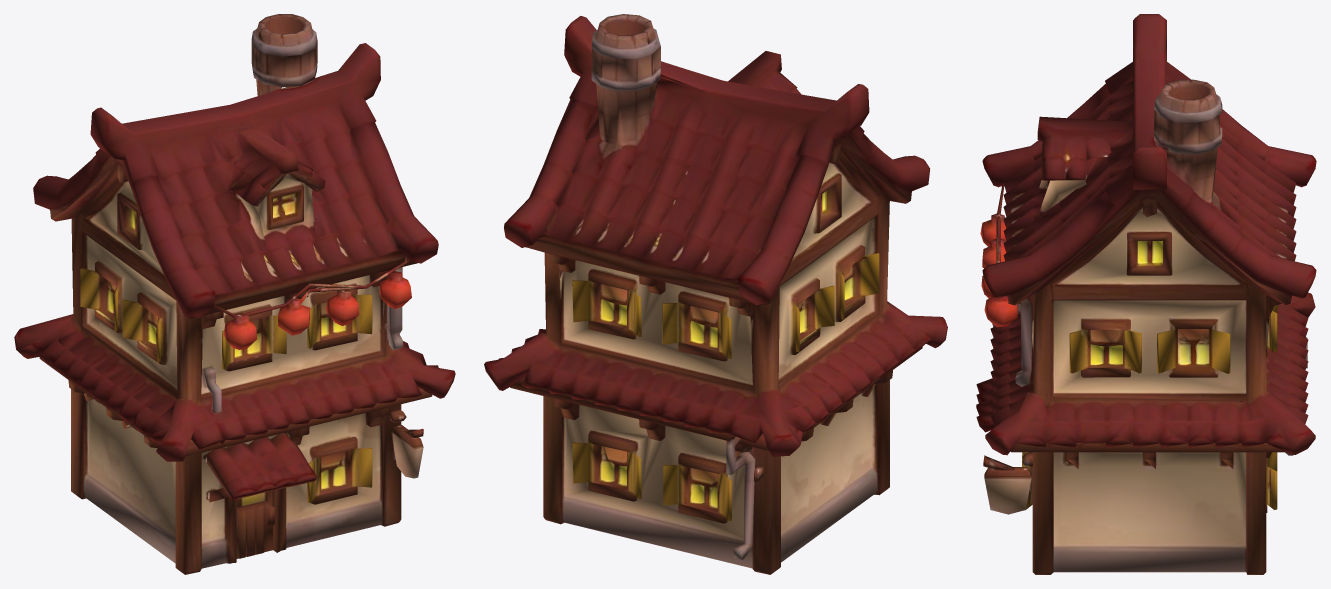
File: bld_tower.glb
3 views of the same model, side by side, from view 1: azimuth 30°, elevation 25°; view 2: azimuth 150°, elevation 25°; view 3: azimuth 270°, elevation 25° (orthographic). The views are drawn at different scales.
Visible parts, largest first — view 1: tripo_node_42963082-9c16-437e-bc61-db22d32cadf1; view 2: tripo_node_42963082-9c16-437e-bc61-db22d32cadf1; view 3: tripo_node_42963082-9c16-437e-bc61-db22d32cadf1.
Part boxes in pixels (<box>): tripo_node_42963082-9c16-437e-bc61-db22d32cadf1: <box>14,14,455,574</box>; tripo_node_42963082-9c16-437e-bc61-db22d32cadf1: <box>484,14,947,574</box>; tripo_node_42963082-9c16-437e-bc61-db22d32cadf1: <box>976,14,1316,574</box>.
Bounding box in the file's own units: 0.6724 × 0.9789 × 0.6494.
Materials: 1 (1 with a texture image).
